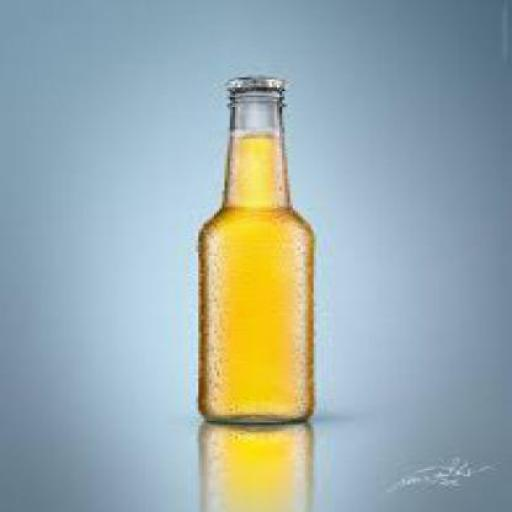glass: (193, 87, 314, 423)
metal: (222, 75, 285, 91)
